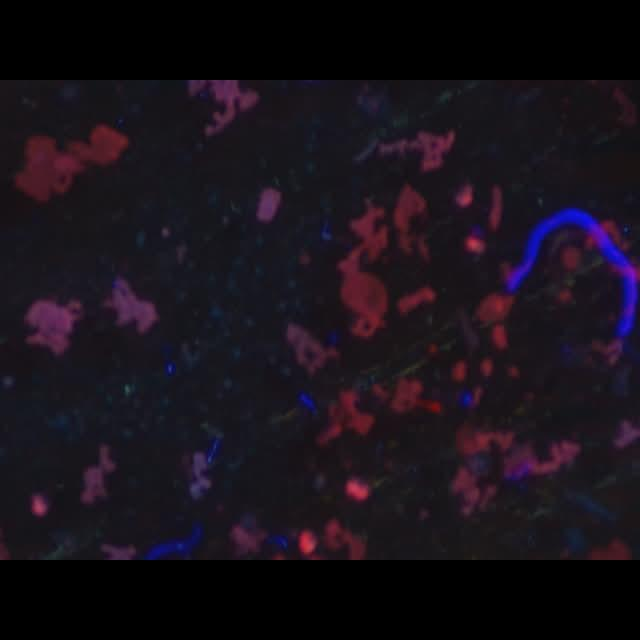Fragment: (80, 446, 116, 504)
